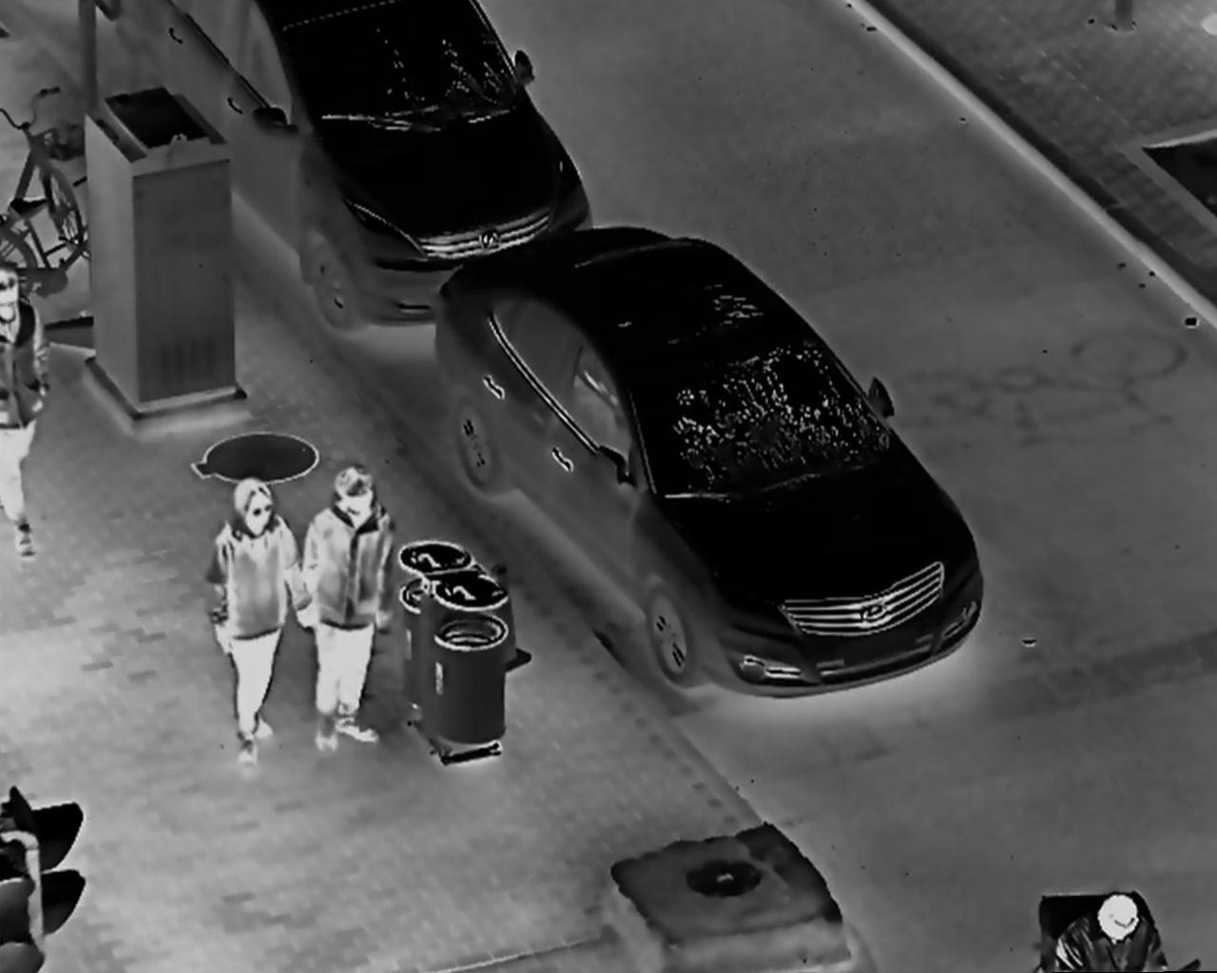person: (203, 474, 319, 773), (303, 458, 395, 751), (1051, 888, 1191, 973)
